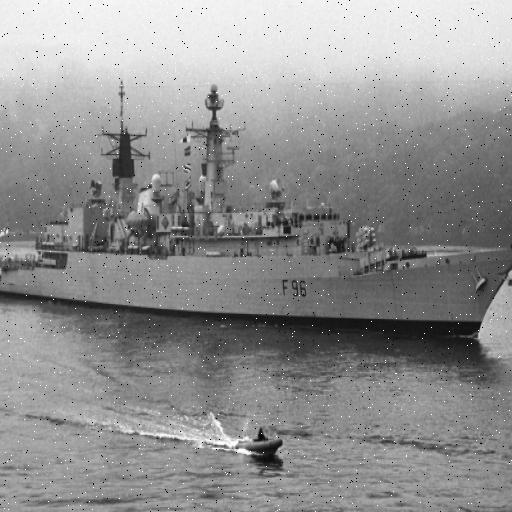Fragata: (1, 72, 512, 340)
